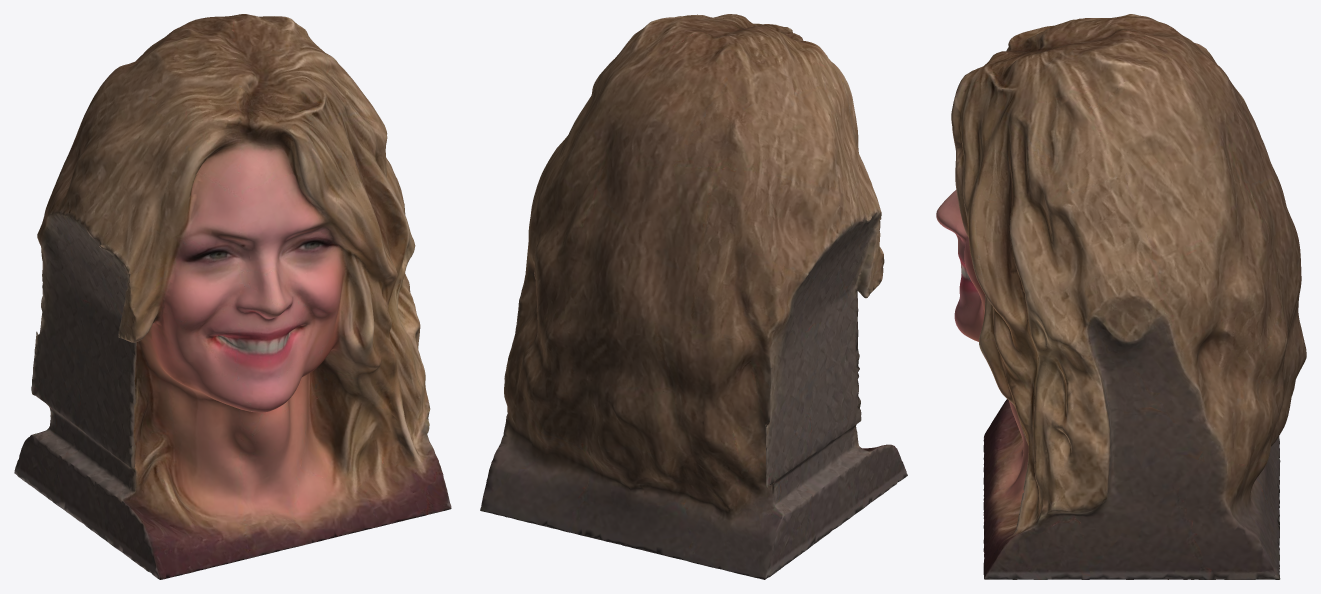
File: michelle_pfeiffer.glb
The picture shows the model from 3 angles, left to right: view 1: azimuth 30°, elevation 25°; view 2: azimuth 150°, elevation 25°; view 3: azimuth 270°, elevation 25°; orthographic projection. The views are drawn at different scales.
Bounding box in the file's own units: 1.36 × 1.9 × 1.34.
Materials: 1 (1 with a texture image).
